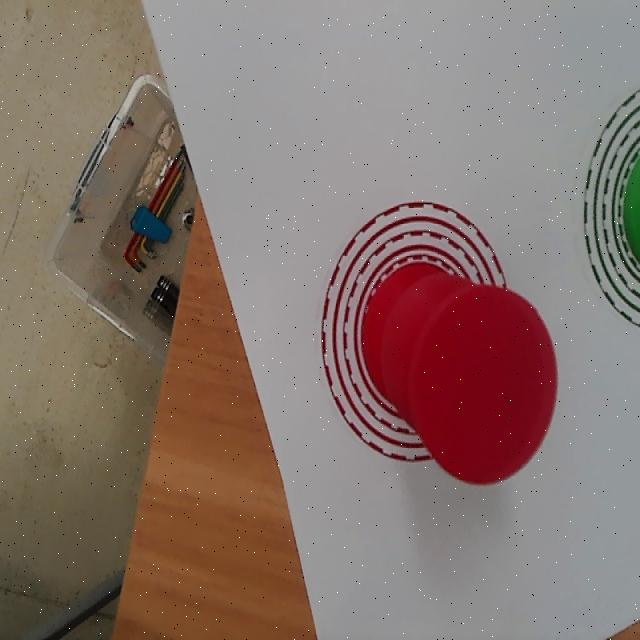r: (412, 285, 557, 484)
